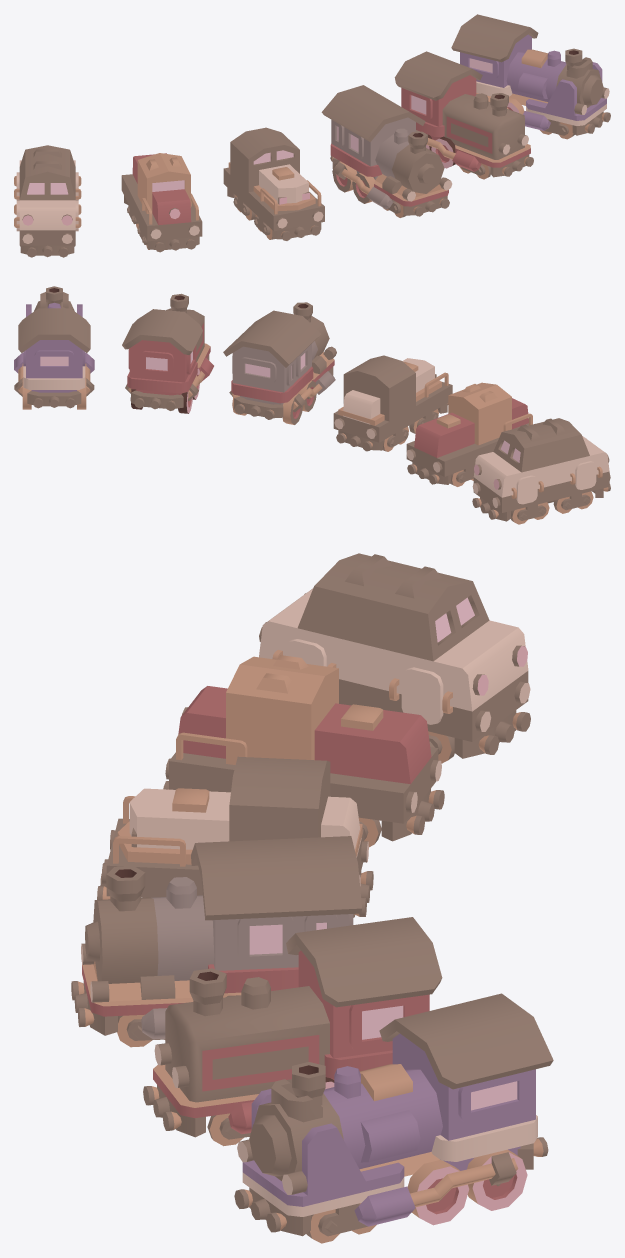
The model's file is TexturePaletteCompression.glb.
3 views of the same model, one above another, from view 1: azimuth 30°, elevation 25°; view 2: azimuth 150°, elevation 25°; view 3: azimuth 270°, elevation 25° (orthographic). The views are drawn at different scales.
Visible parts, largest first — view 1: train-locomotive-c, train-locomotive-a, train-locomotive-b, train-diesel-c, train-diesel-a, train-diesel-b, wheel (×2), wheels-front; view 2: train-diesel-a, train-locomotive-a, train-diesel-c, train-locomotive-b, train-locomotive-c, train-diesel-b, wheel (×2), wheels-back (×2), wheels-front; view 3: train-locomotive-c, train-locomotive-a, train-locomotive-b, train-diesel-a, train-diesel-b, train-diesel-c, wheel, wheels-front.
Boxes of the visible parts, bbox=[...] form: train-locomotive-c: bbox=[451, 14, 610, 135]; train-locomotive-a: bbox=[321, 85, 452, 216]; train-locomotive-b: bbox=[394, 51, 533, 177]; train-diesel-c: bbox=[223, 127, 324, 240]; train-diesel-a: bbox=[14, 145, 81, 257]; train-diesel-b: bbox=[121, 153, 202, 252]; wheel (×2): bbox=[332, 134, 455, 203]; wheels-front: bbox=[540, 119, 574, 139]; train-diesel-a: bbox=[472, 418, 610, 521]; train-locomotive-a: bbox=[223, 302, 336, 419]; train-diesel-c: bbox=[333, 355, 452, 451]; train-locomotive-b: bbox=[122, 293, 213, 410]; train-locomotive-c: bbox=[14, 286, 94, 408]; train-diesel-b: bbox=[406, 382, 532, 484]; wheel (×2): bbox=[22, 363, 316, 424]; wheels-back (×2): bbox=[382, 426, 549, 524]; wheels-front: bbox=[553, 491, 593, 513]; train-locomotive-c: bbox=[234, 993, 553, 1236]; train-locomotive-a: bbox=[71, 836, 361, 1039]; train-locomotive-b: bbox=[143, 917, 442, 1137]; train-diesel-a: bbox=[259, 553, 530, 758]; train-diesel-b: bbox=[163, 655, 444, 841]; train-diesel-c: bbox=[97, 756, 373, 917]; wheel: bbox=[407, 1149, 527, 1225]; wheels-front: bbox=[306, 1203, 376, 1243].
Size of the model in its own units: 12.03 by 1.66 by 4.3.
1 material, 1 textured.
